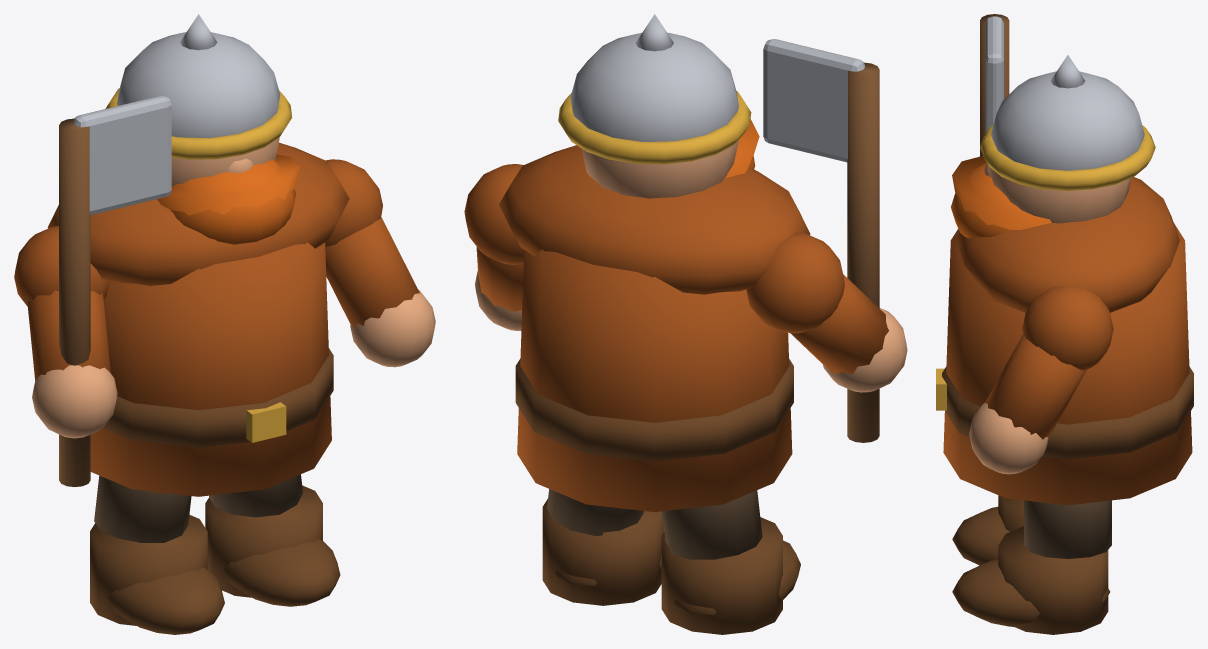
File: dwarf.glb
The picture shows the model from 3 angles, left to right: view 1: azimuth 30°, elevation 25°; view 2: azimuth 150°, elevation 25°; view 3: azimuth 270°, elevation 25°; orthographic projection. The views are drawn at different scales.
Parts seen in each view (by area): view 1: dwarf; view 2: dwarf; view 3: dwarf.
Part boxes in pixels (left/top/right/bottom): dwarf: left=14, top=14, right=435, bottom=634; dwarf: left=464, top=14, right=907, bottom=634; dwarf: left=936, top=14, right=1193, bottom=634.
Bounding box in the file's own units: 0.59 × 0.8132 × 0.352.
